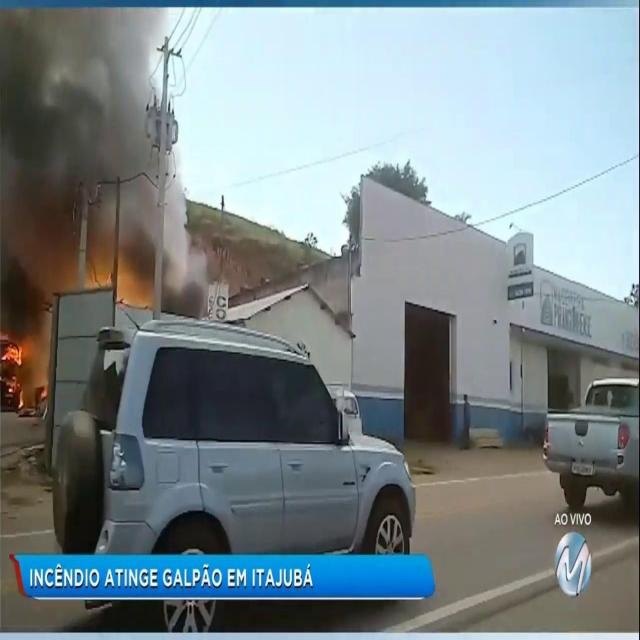Fire: (2, 5, 207, 322), (0, 334, 23, 367), (17, 388, 24, 408)
